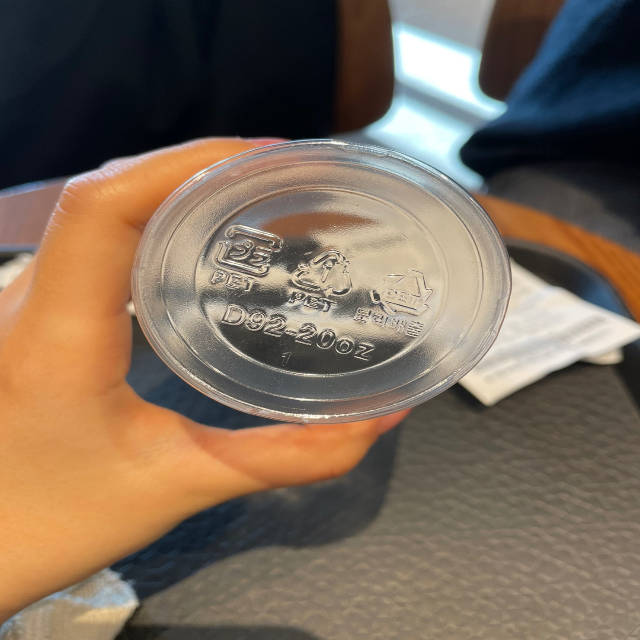pet: (352, 264, 434, 339), (207, 220, 282, 301), (283, 240, 353, 318)
